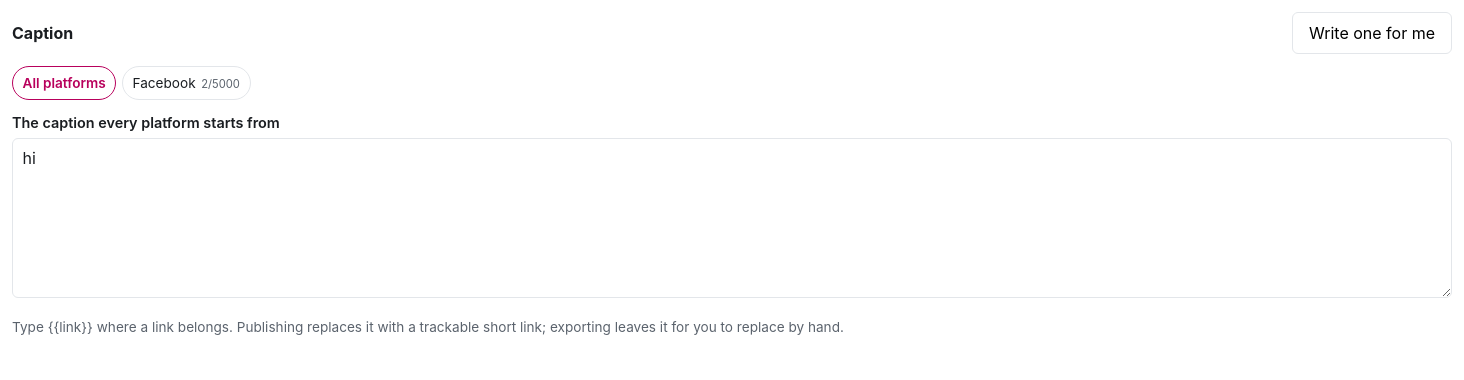
Test: CaptionPanel › marks an unverified limit as approximate rather than stating it as fact
Click the tab "Facebook 2/5000" at (186, 83), box [122,66,250,100]
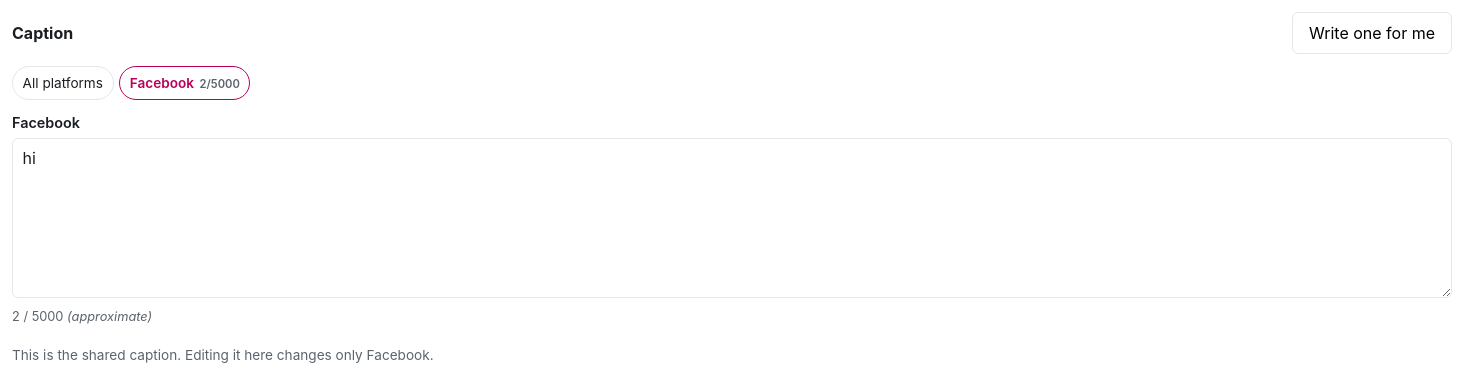
Result: the text "(approximate)" is shown at [63,309,152,324]
